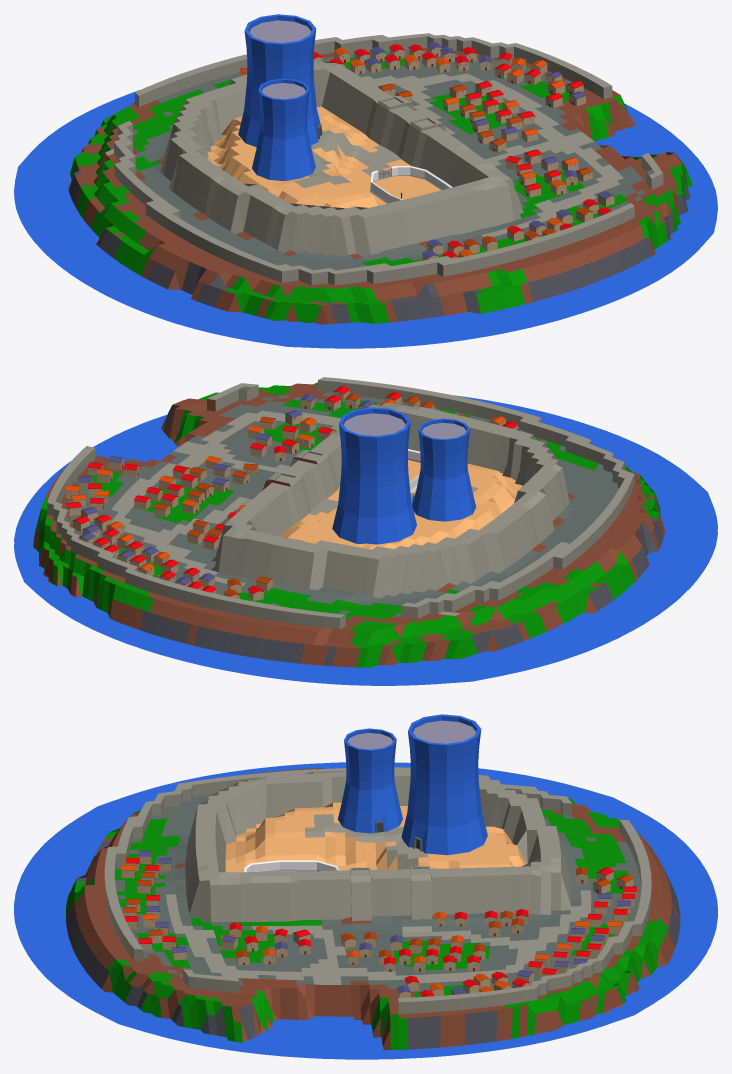
File: shells-town-opt.glb
The picture shows the model from 3 angles, top to bottom: view 1: azimuth 30°, elevation 25°; view 2: azimuth 150°, elevation 25°; view 3: azimuth 270°, elevation 25°; orthographic projection. The views are drawn at different scales.
Parts seen in each view (by area): view 1: Cube.001, Cube.002, espaço-treinamento-qg; view 2: Cube.001, Cube.002; view 3: Cube.001, Cube.002, espaço-treinamento-qg.
Part boxes in pixels (x1,y1,x2,y2): Cube.001: [14, 33, 717, 348]; Cube.002: [238, 14, 322, 180]; espaço-treinamento-qg: [370, 166, 452, 203]; Cube.001: [14, 377, 717, 685]; Cube.002: [332, 407, 476, 544]; Cube.001: [14, 762, 717, 1059]; Cube.002: [338, 714, 487, 855]; espaço-treinamento-qg: [244, 860, 339, 872].
Bounding box in the file's own units: 59.79 × 15 × 59.79.
9 materials, 8 textured.
